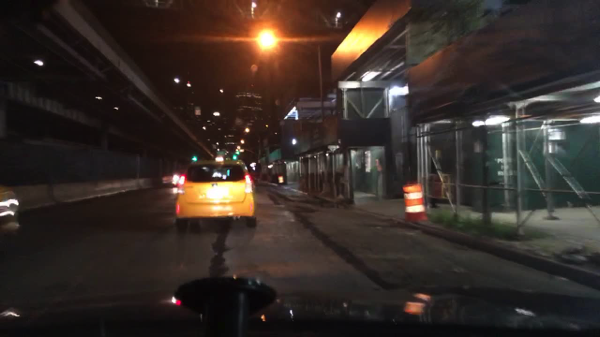car: (173, 154, 258, 230), (0, 179, 25, 241), (161, 171, 179, 185)
person: (425, 158, 443, 209)
traffic light: (190, 154, 198, 161), (231, 154, 237, 160)
